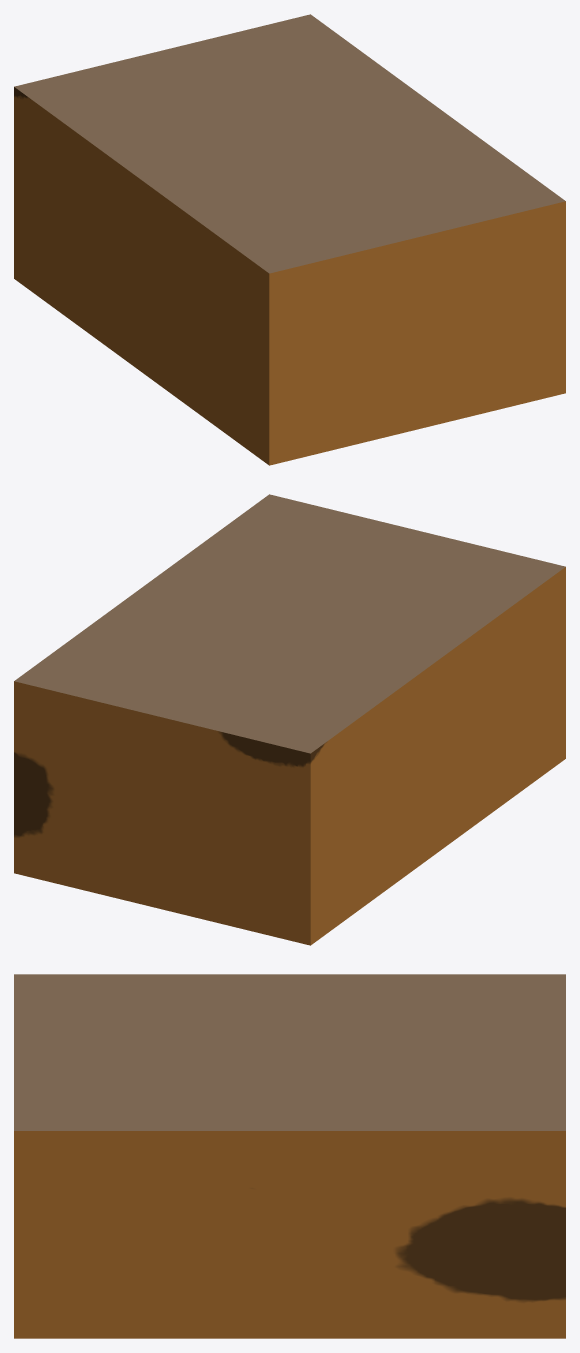
File: Sala.glb
3 renders of one model, top to bottom at view 1: azimuth 30°, elevation 25°; view 2: azimuth 150°, elevation 25°; view 3: azimuth 270°, elevation 25°, orthographic. The views are drawn at different scales.
Visible parts, largest first — view 1: Sala de aula; view 2: Sala de aula; view 3: Sala de aula.
Boxes of the visible parts, x1,y1,x2,y2 form: Sala de aula: (14, 14, 565, 465); Sala de aula: (14, 494, 565, 945); Sala de aula: (14, 974, 565, 1338).
Bounding box in the file's own units: 82.78 × 51.21 × 123.
3 materials, 2 textured.
